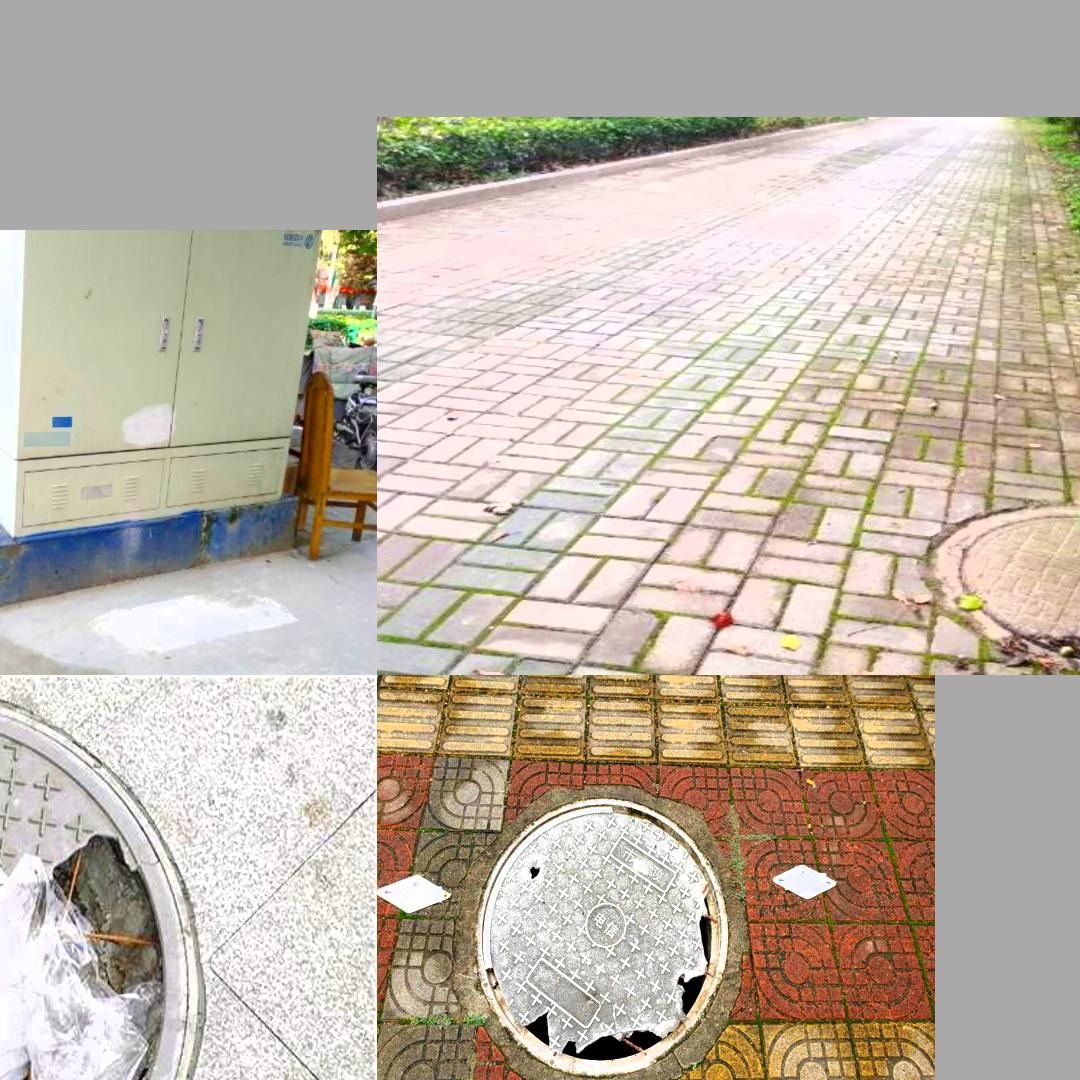broke: (0, 685, 217, 1080), (473, 798, 728, 1079), (932, 503, 1080, 675)
